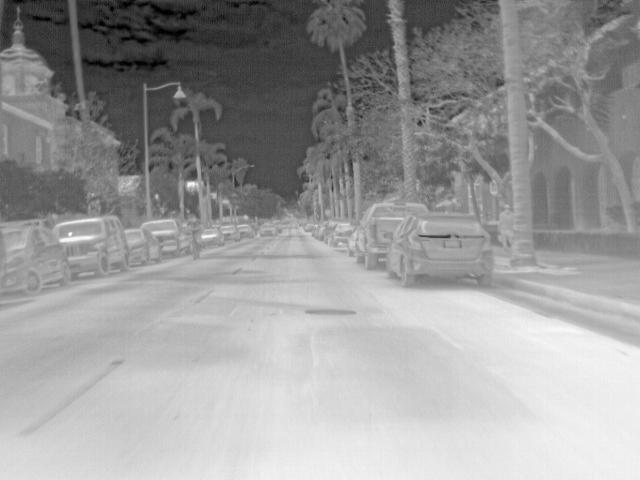car: (386, 212, 494, 289), (0, 218, 72, 296), (353, 200, 429, 270), (51, 214, 127, 278), (139, 217, 186, 257), (124, 227, 163, 266), (328, 222, 352, 248), (204, 226, 224, 246), (320, 219, 336, 242), (222, 223, 240, 241), (237, 221, 256, 238), (258, 221, 275, 237), (347, 233, 357, 254), (313, 226, 327, 239), (304, 222, 318, 234), (276, 226, 282, 232)
person: (498, 203, 513, 253), (436, 193, 462, 213), (185, 212, 201, 237)
